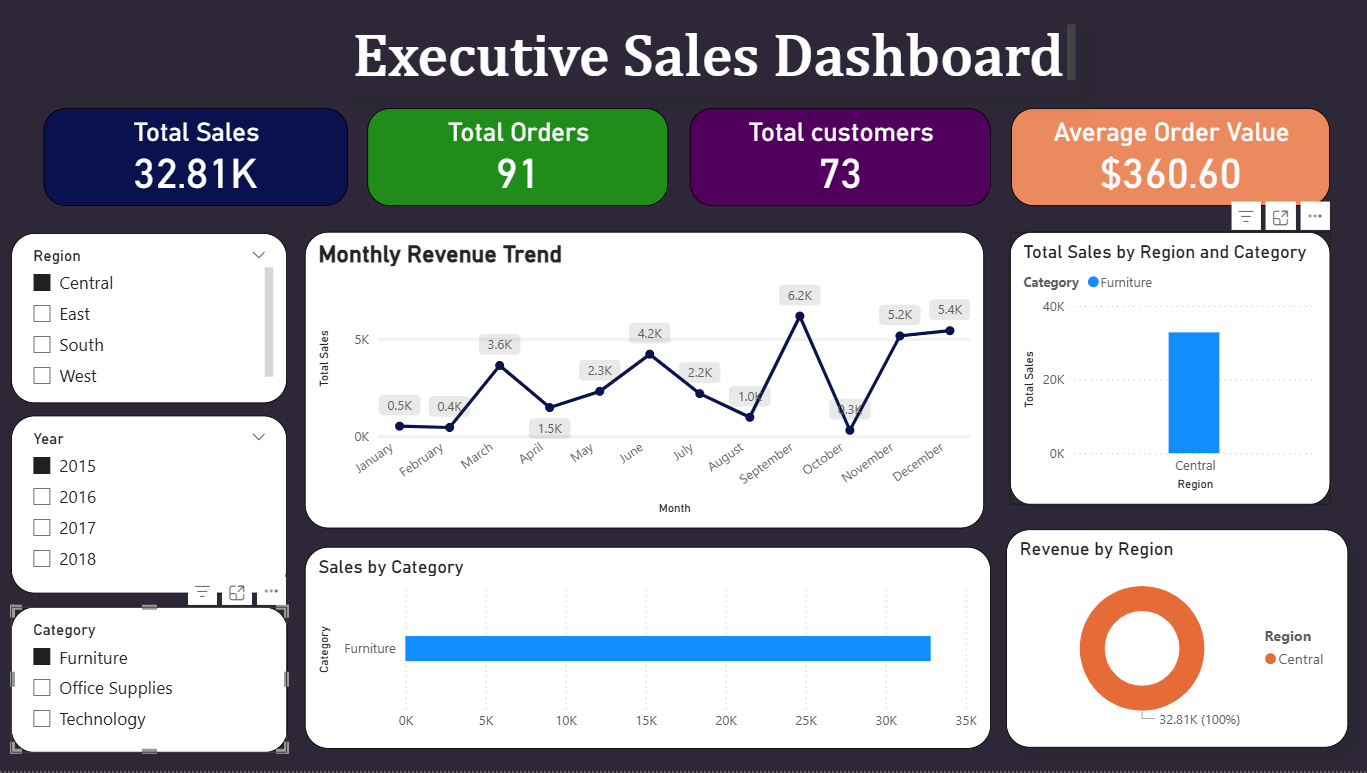

The dashboard page shown, as its layout file describes it:
{"tool":"powerbi","page":{"name":"Page 1","canvas":[1280,720],"ordinal":0},"visuals":[{"type":"card","title":"Total Sales","fields":{"Values":["Sum(fact_sales.Sales)"]},"box":[48.6,102.9,282.9,91.4],"z":0},{"type":"card","title":"Total Orders","fields":{"Values":["dim_customer.Total Orders"]},"box":[350,102.9,280,91.4],"z":1000},{"type":"card","title":"Total customers","fields":{"Values":["dim_customer.Total Customers"]},"box":[650,102.9,280,91.4],"z":2000},{"type":"card","title":"Average Order Value","fields":{"Values":["dim_customer.Average Order Value"]},"box":[948.6,102.9,297.1,91.4],"z":3000},{"type":"lineChart","title":"Monthly Revenue Trend","fields":{"Category":["dim_date.Order Date.Variation.Date Hierarchy.Month"],"Y":["dim_customer.Total Sales"]},"box":[292,218,632,276],"z":4000},{"type":"donutChart","title":"Revenue by Region","fields":{"Category":["dim_region.Region"],"Y":["dim_customer.Total Sales"]},"box":[944.3,494.3,318.6,202.9],"z":5000},{"type":"barChart","title":"Sales by Category","fields":{"Category":["dim_product.Category"],"Y":["dim_customer.Total Sales"]},"box":[292,510,638,188],"z":6000},{"type":"slicer","fields":{"Values":["dim_region.Region"]},"box":[18.6,218.6,257.1,158.6],"z":7000},{"type":"slicer","fields":{"Values":["dim_date.Year"]},"box":[18.6,388.6,257.1,165.7],"z":8000},{"type":"slicer","fields":{"Values":["dim_product.Category"]},"box":[18.7,566.7,257.3,136],"z":9000},{"type":"columnChart","fields":{"Category":["dim_region.Region"],"Y":["dim_customer.Total Sales"],"Series":["dim_product.Category"]},"box":[948,218,298,254],"z":10000},{"type":"textbox","box":[331.4,20,682.9,68.6],"z":11000}]}

Visuals, with their boxes in screenshot pixels (x1, y1, x2, y2), scaled from the page's 1280x720 canvas onto the 1367x773 screenshot:
"Total Sales" card: region(52, 110, 354, 209)
"Total Orders" card: region(374, 110, 673, 209)
"Total customers" card: region(694, 110, 993, 209)
"Average Order Value" card: region(1013, 110, 1330, 209)
"Monthly Revenue Trend" lineChart: region(312, 234, 987, 530)
"Revenue by Region" donutChart: region(1008, 531, 1349, 749)
"Sales by Category" barChart: region(312, 548, 993, 749)
slicer - dim_region.Region: region(20, 235, 294, 405)
slicer - dim_date.Year: region(20, 417, 294, 595)
slicer - dim_product.Category: region(20, 608, 295, 754)
columnChart - dim_region.Region x dim_customer.Total Sales: region(1012, 234, 1331, 507)
textbox: region(354, 21, 1083, 95)
